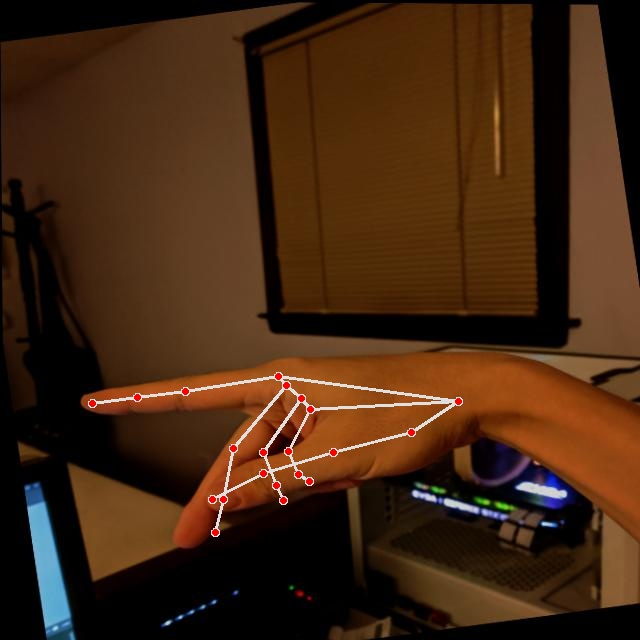P: (71, 324, 498, 567)
